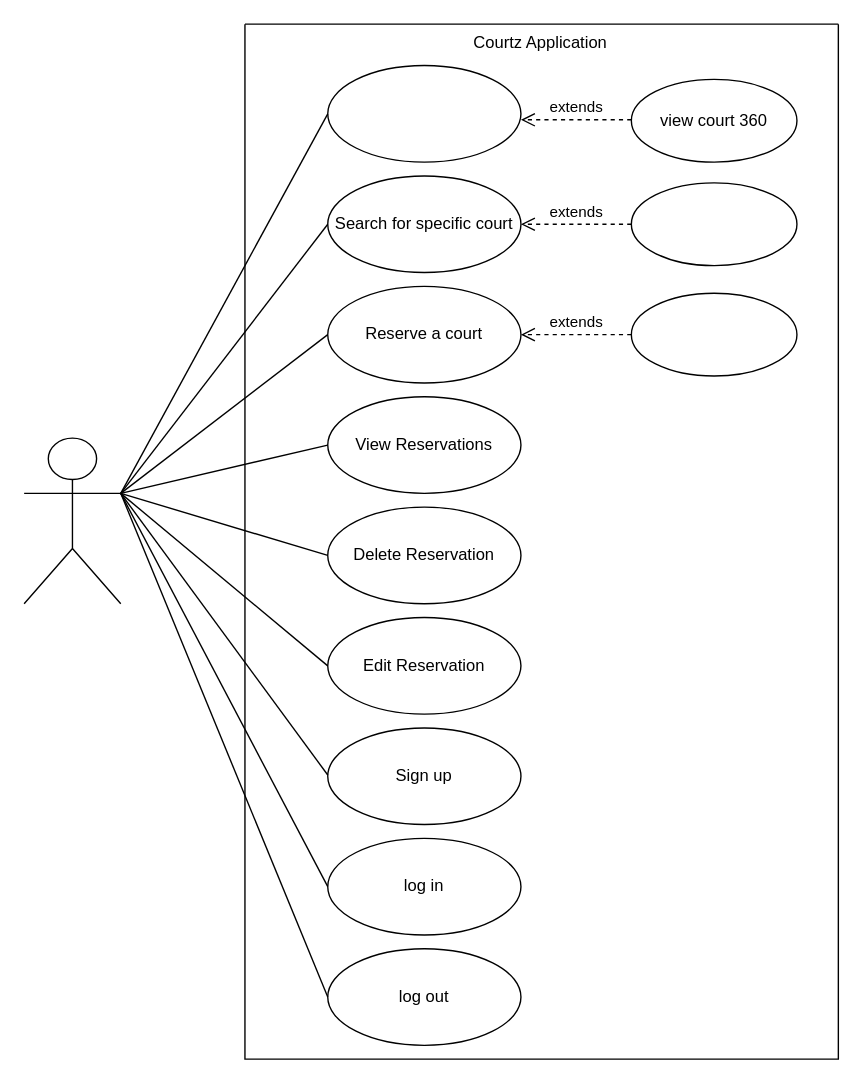
This 863x1083 diagram has some shape labels left out. Each missing label, with the centre of its shape:
"Hire a referee" belongs at (713,334).
"Sort courts" belongs at (713,223).
"User" belongs at (72,520).
"View Court Details" belongs at (423,113).
